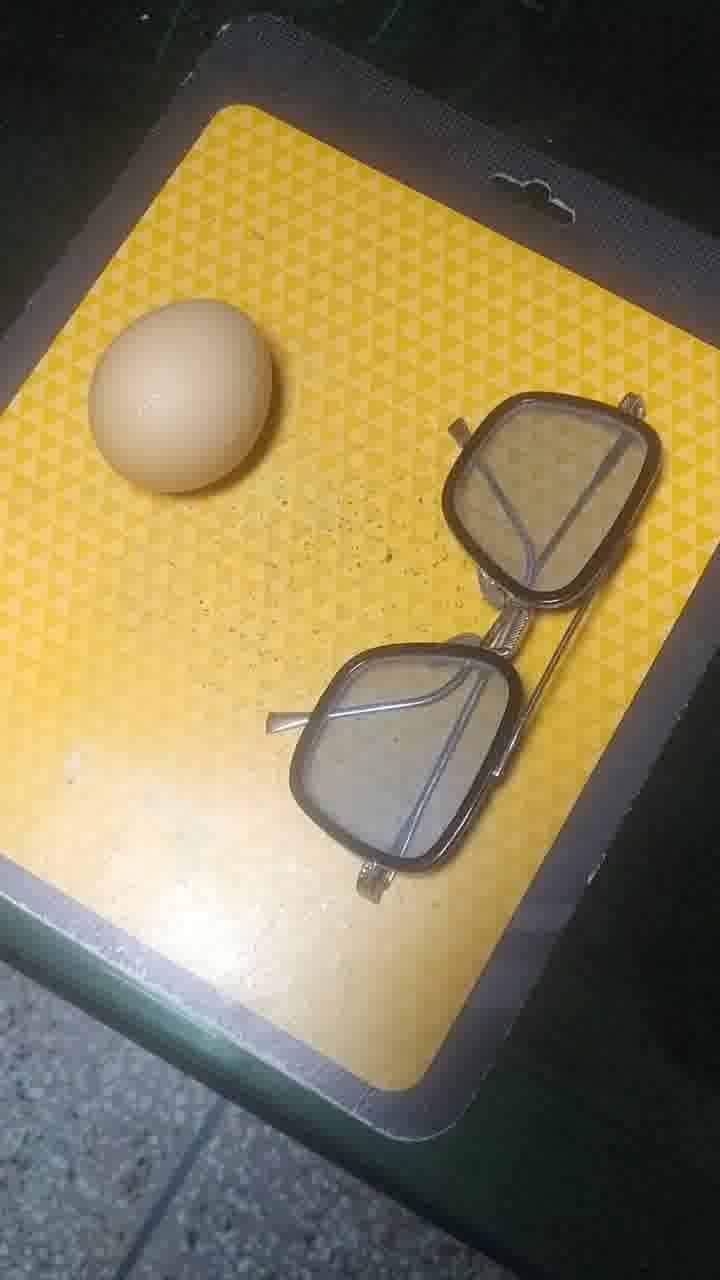egg: (83, 293, 280, 501)
sunglass: (283, 367, 674, 910)
